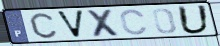0: (151, 7, 178, 35)
C: (119, 8, 150, 36), (28, 12, 59, 39)
U: (176, 5, 212, 36)
V: (54, 9, 86, 39)
X: (85, 8, 125, 38)
